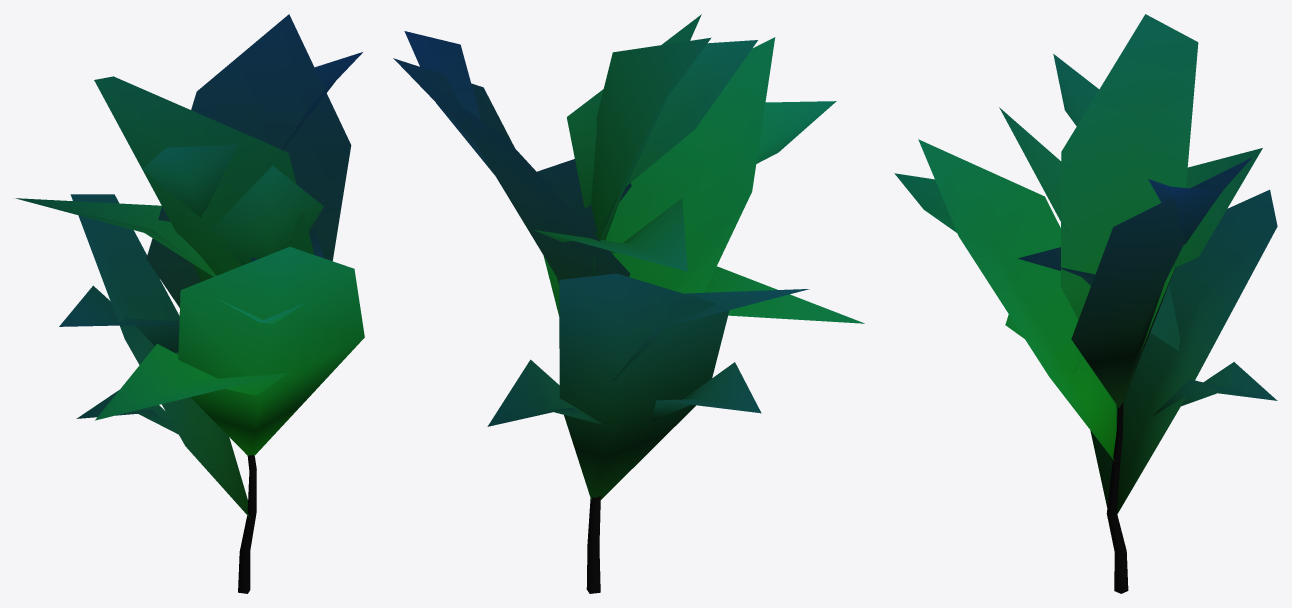
File: SM_EuropeanBeech_XS_02.fbx
3 renders of one model, left to right at view 1: azimuth 30°, elevation 25°; view 2: azimuth 150°, elevation 25°; view 3: azimuth 270°, elevation 25°, orthographic. The views are drawn at different scales.
Visible parts, largest first — view 1: SM_EuropeanBeech_XS_02_LOD0; view 2: SM_EuropeanBeech_XS_02_LOD0; view 3: SM_EuropeanBeech_XS_02_LOD0.
Boxes of the visible parts, box(x1,y1,x2,y2) form: SM_EuropeanBeech_XS_02_LOD0: box(14, 14, 364, 593); SM_EuropeanBeech_XS_02_LOD0: box(393, 14, 864, 593); SM_EuropeanBeech_XS_02_LOD0: box(894, 14, 1277, 593).
Size of the model in its own units: 66.67 by 66.53 by 99.68.
